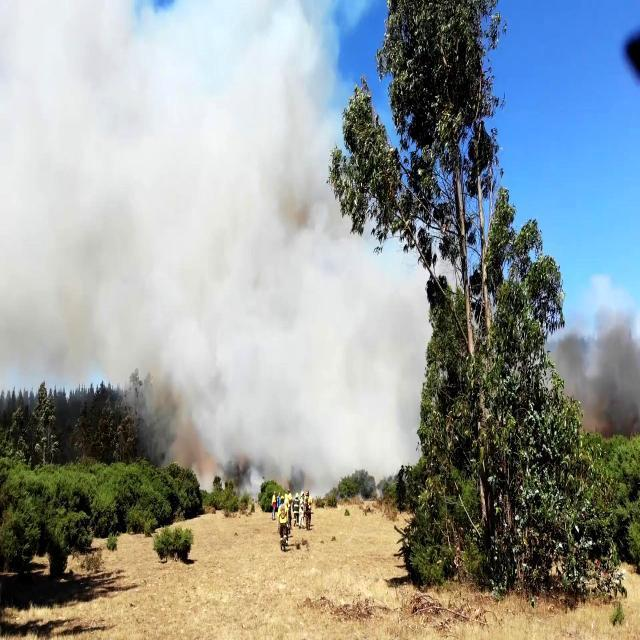Smoke: (0, 0, 418, 477), (553, 264, 640, 446)
